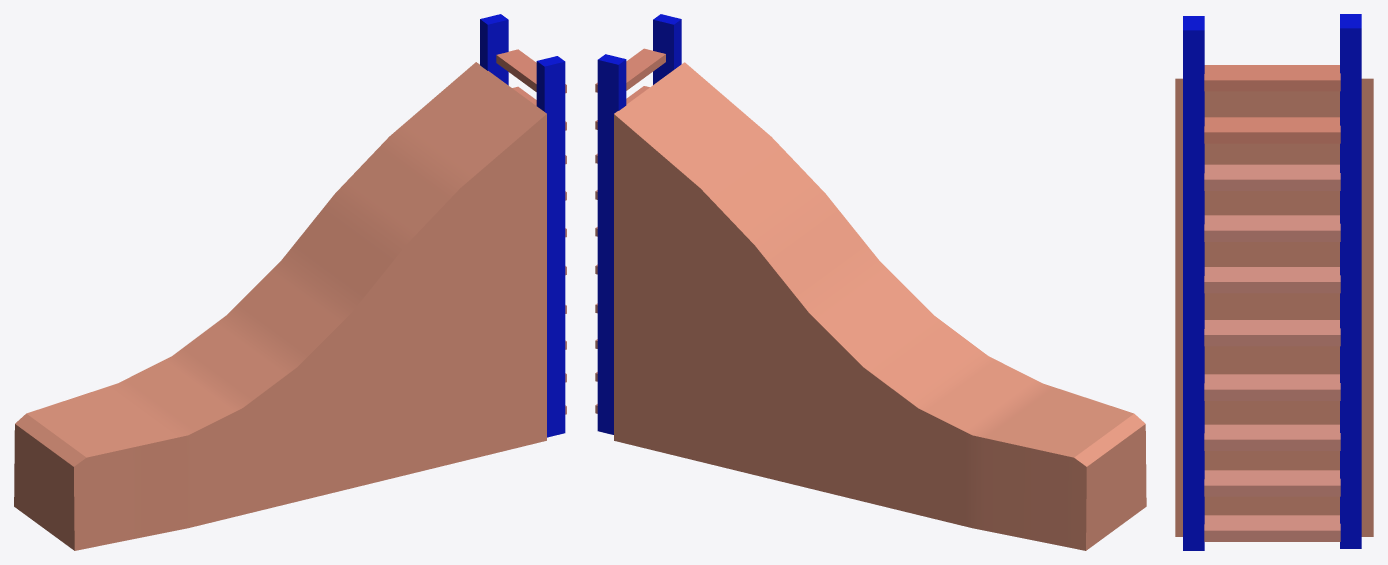
Rendered from SLIDE.fbx.
3 renders of one model, left to right at view 1: azimuth 30°, elevation 25°; view 2: azimuth 150°, elevation 25°; view 3: azimuth 270°, elevation 25°, orthographic. The views are drawn at different scales.
Parts seen in each view (by area): view 1: Cube, Cube.001, Cube.002, Cube.021; view 2: Cube, Cube.002, Cube.001, Cube.021; view 3: Cube, Cube.001, Cube.002, Cube.003, Cube.013, Cube.016, Cube.017, Cube.018, Cube.020, Cube.021, Cube.015, Cube.014 (+1 smaller).
Boxes of the visible parts, x1,y1,x2,y2 form: Cube: (14,62,546,550); Cube.001: (536,56,565,437); Cube.002: (480,14,508,85); Cube.021: (496,49,566,93); Cube: (614,62,1146,550); Cube.002: (597,54,626,434); Cube.001: (653,14,681,84); Cube.021: (595,48,665,92); Cube: (1175,78,1373,536); Cube.001: (1183,16,1204,550); Cube.002: (1340,14,1361,548); Cube.003: (1204,515,1340,541); Cube.013: (1204,470,1340,496); Cube.016: (1204,320,1340,346); Cube.017: (1204,267,1340,293); Cube.018: (1204,215,1340,241); Cube.020: (1204,117,1340,143); Cube.021: (1204,65,1340,91); Cube.015: (1204,374,1340,400); Cube.014: (1204,424,1340,450).
Size of the model in its own units: 229 by 164 by 56.43.
